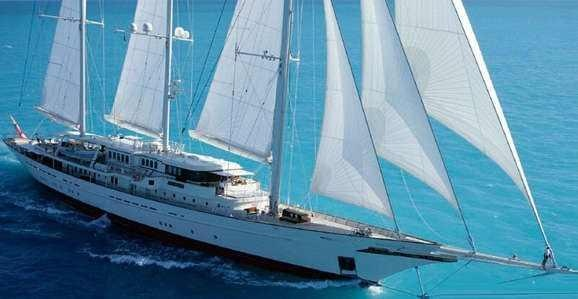fanchuan: (10, 1, 570, 291)
